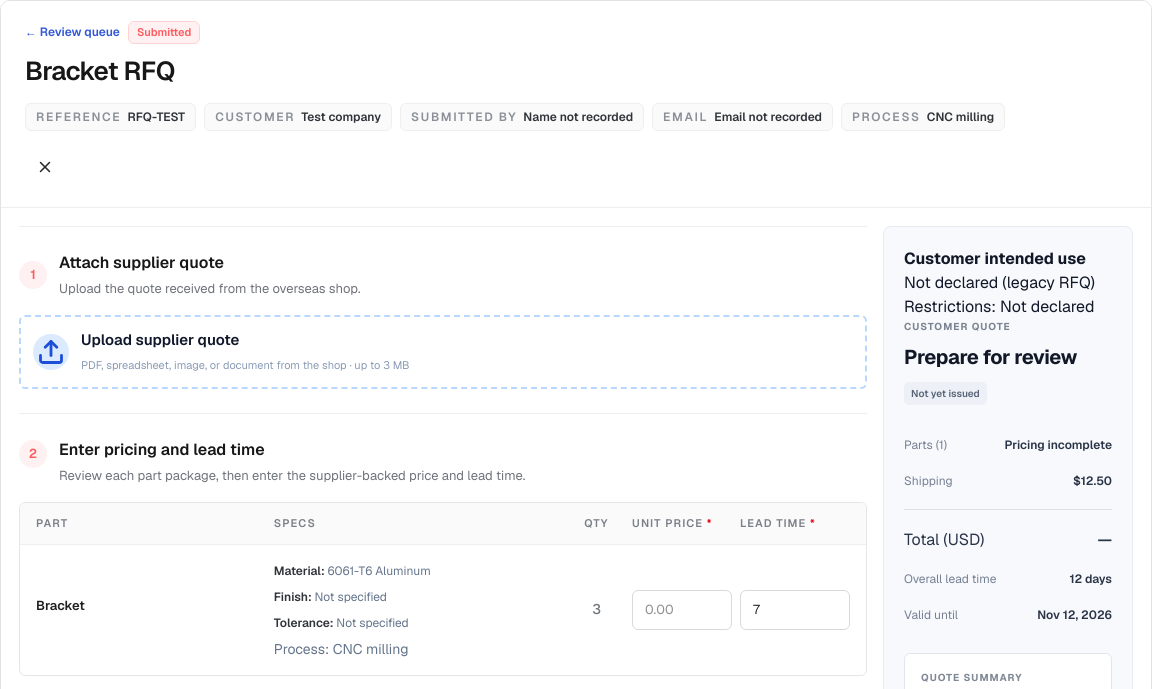
Scenario: quote workbench saves › retains entered prices and supports retry after a failed save
Type "12.50" into the number field named "Unit price - Bracket" at (682, 610), box [632,590,732,630]
(page scrolled)
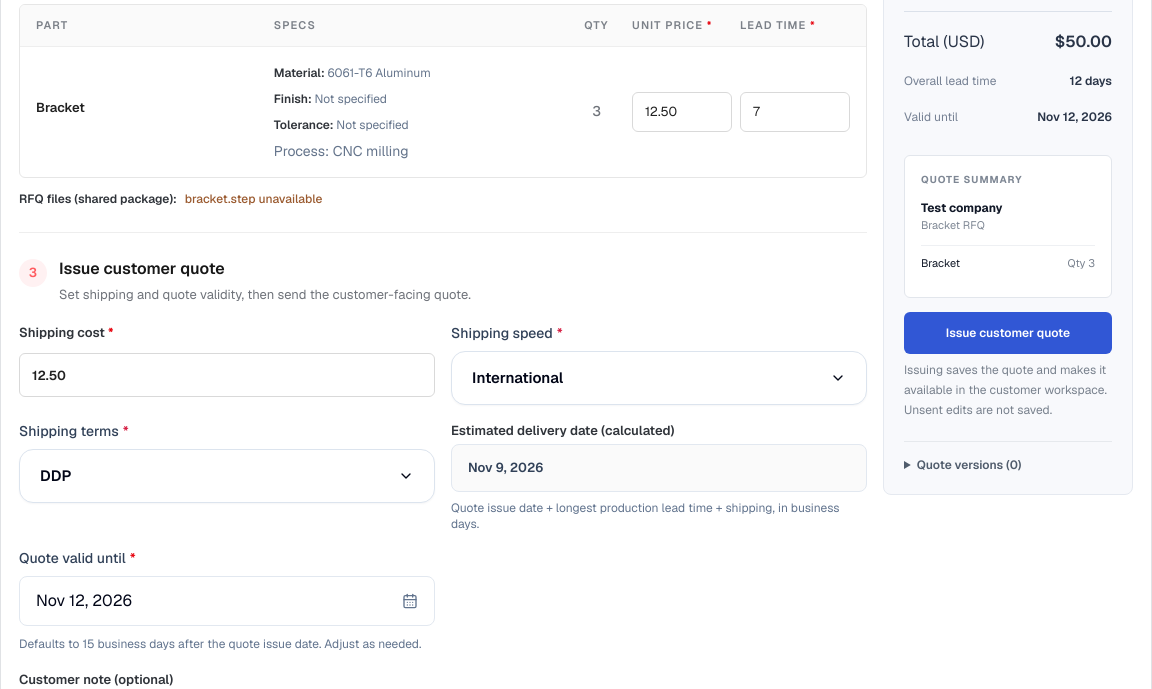
Submit the form
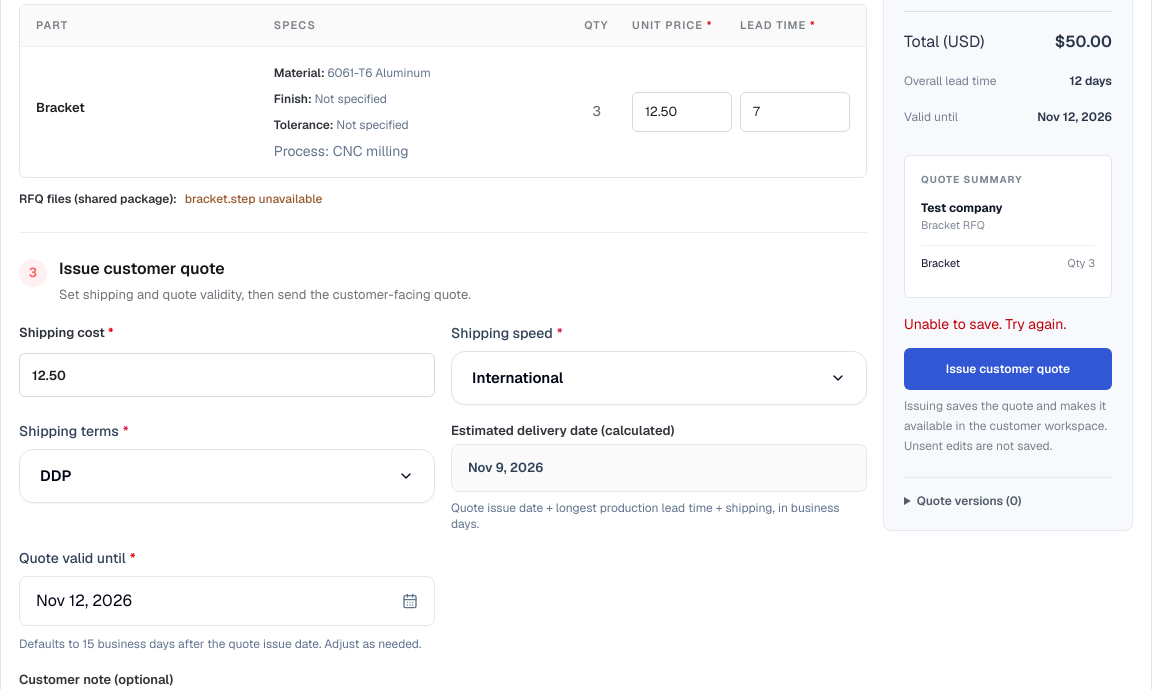
Expected: the message reads "Unable to save. Try again.", [904,314,1066,332]
Submit the form
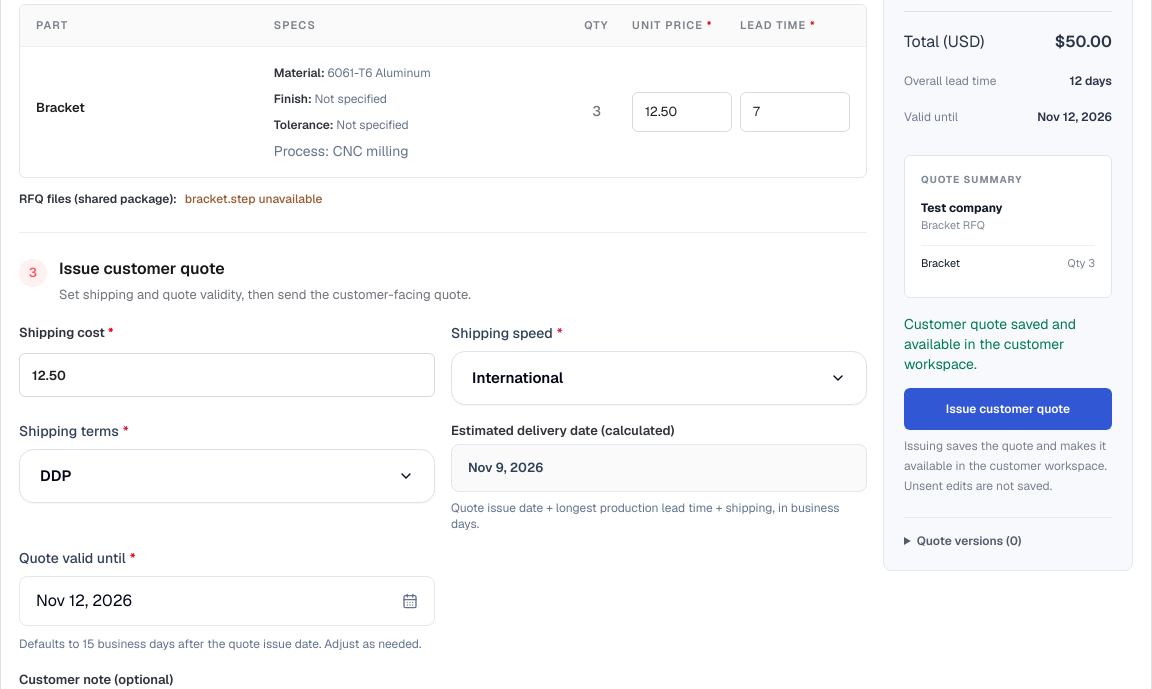
Expected: the message shows "Customer quote saved", [904,314,1076,372]
